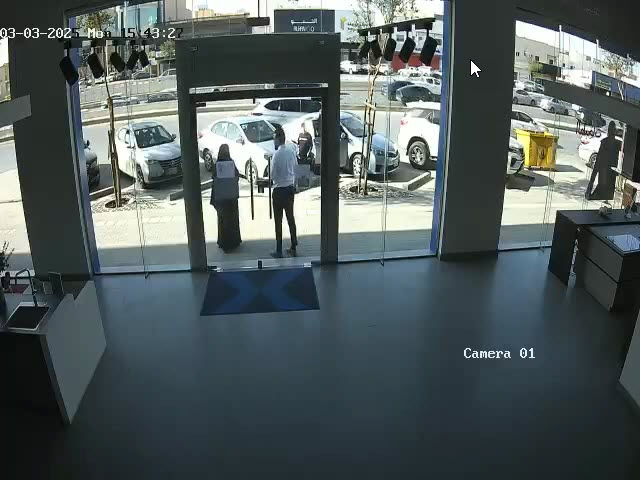female: (207, 136, 249, 257)
male: (269, 126, 299, 258)
